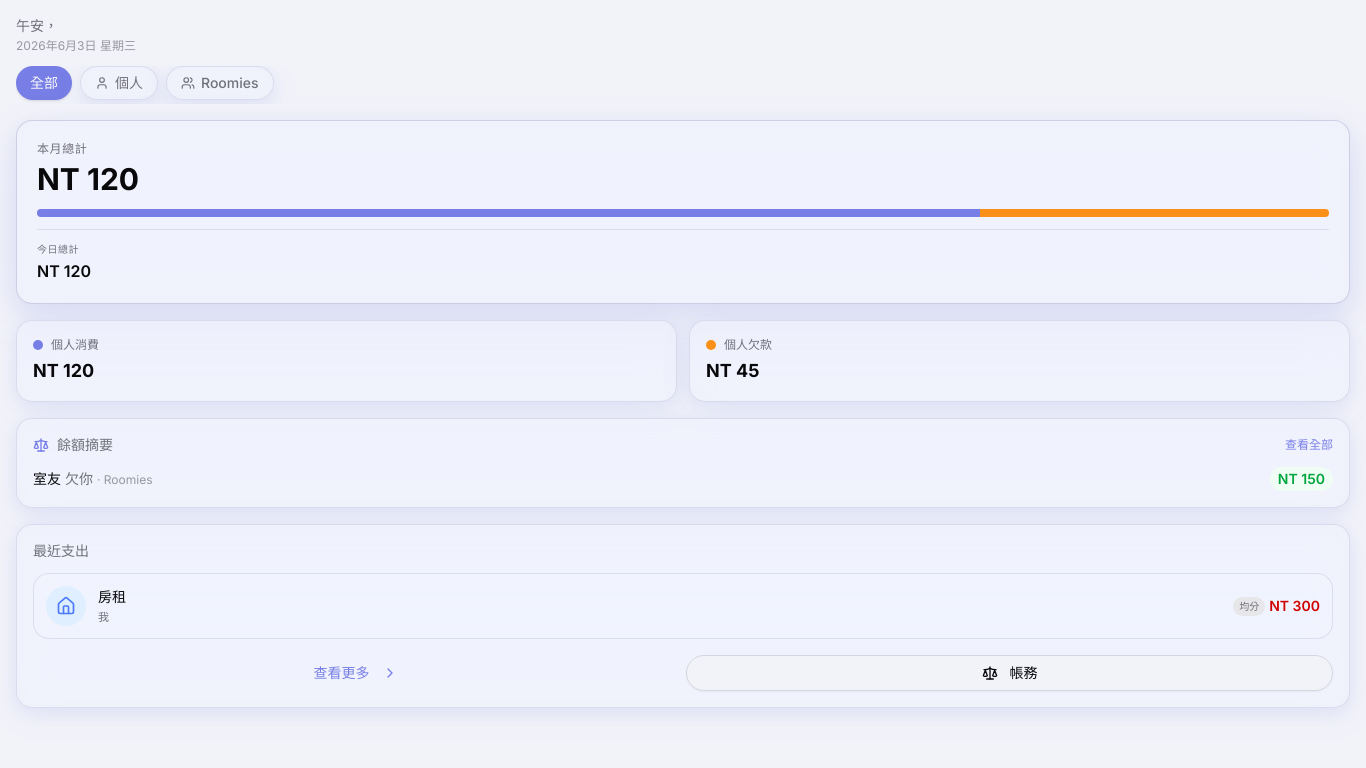
Test: DashboardPage › group mode: renders the group month total, my split share and the debt summary
This screenshot has width=1366, height=768.
Click the button "Roomies": (220, 83) [166,66,274,100]
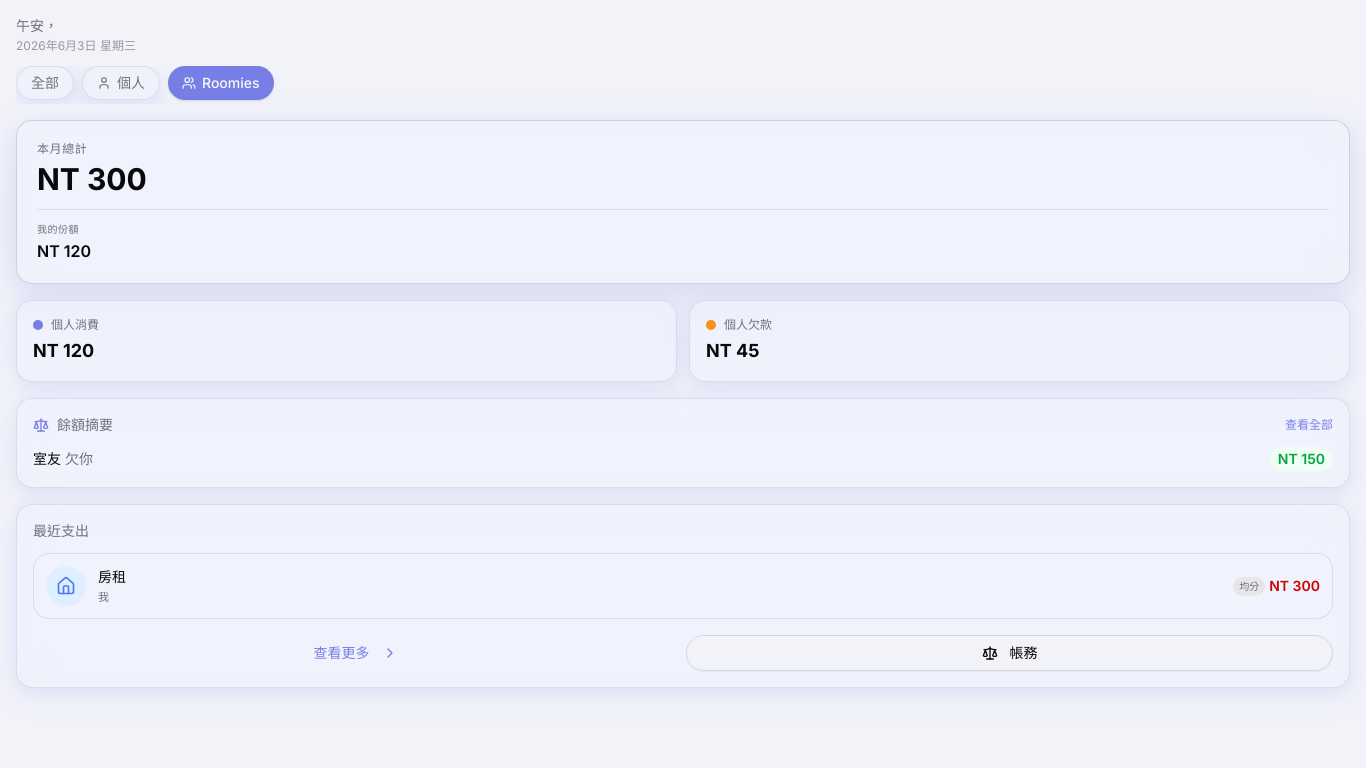
Expected: the text "室友" is shown, [33,450,61,467]
Expected: the element with test id "dashboard-hero-progress" is gone
